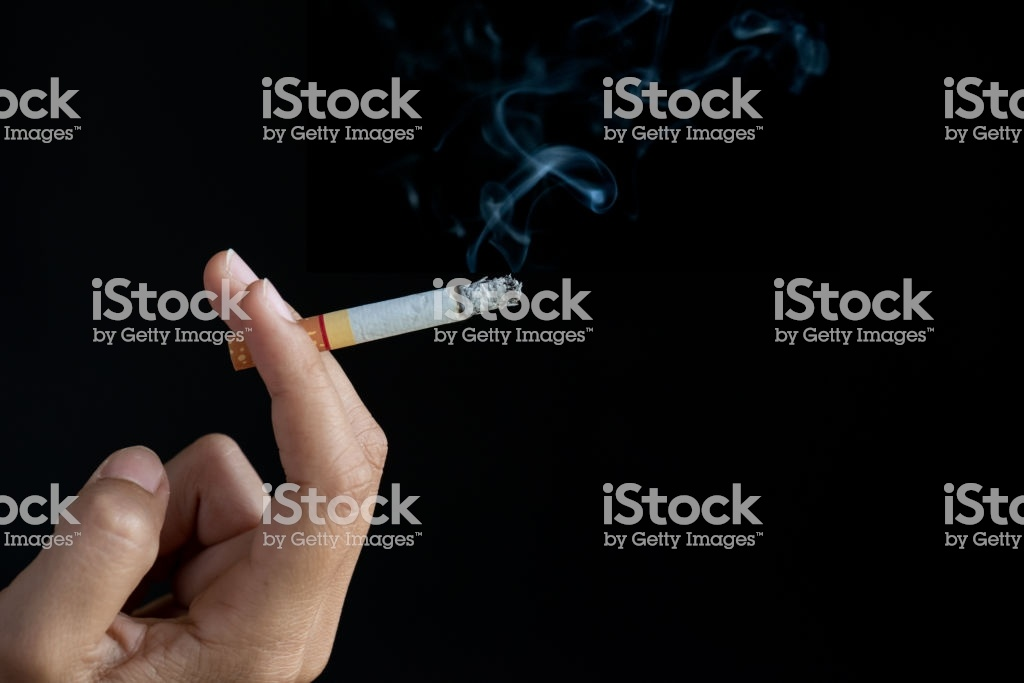sigaretta: (224, 257, 527, 381)
